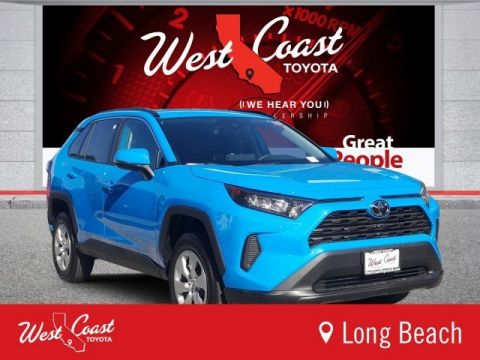Toyota RAV-4: (45, 106, 445, 302)
